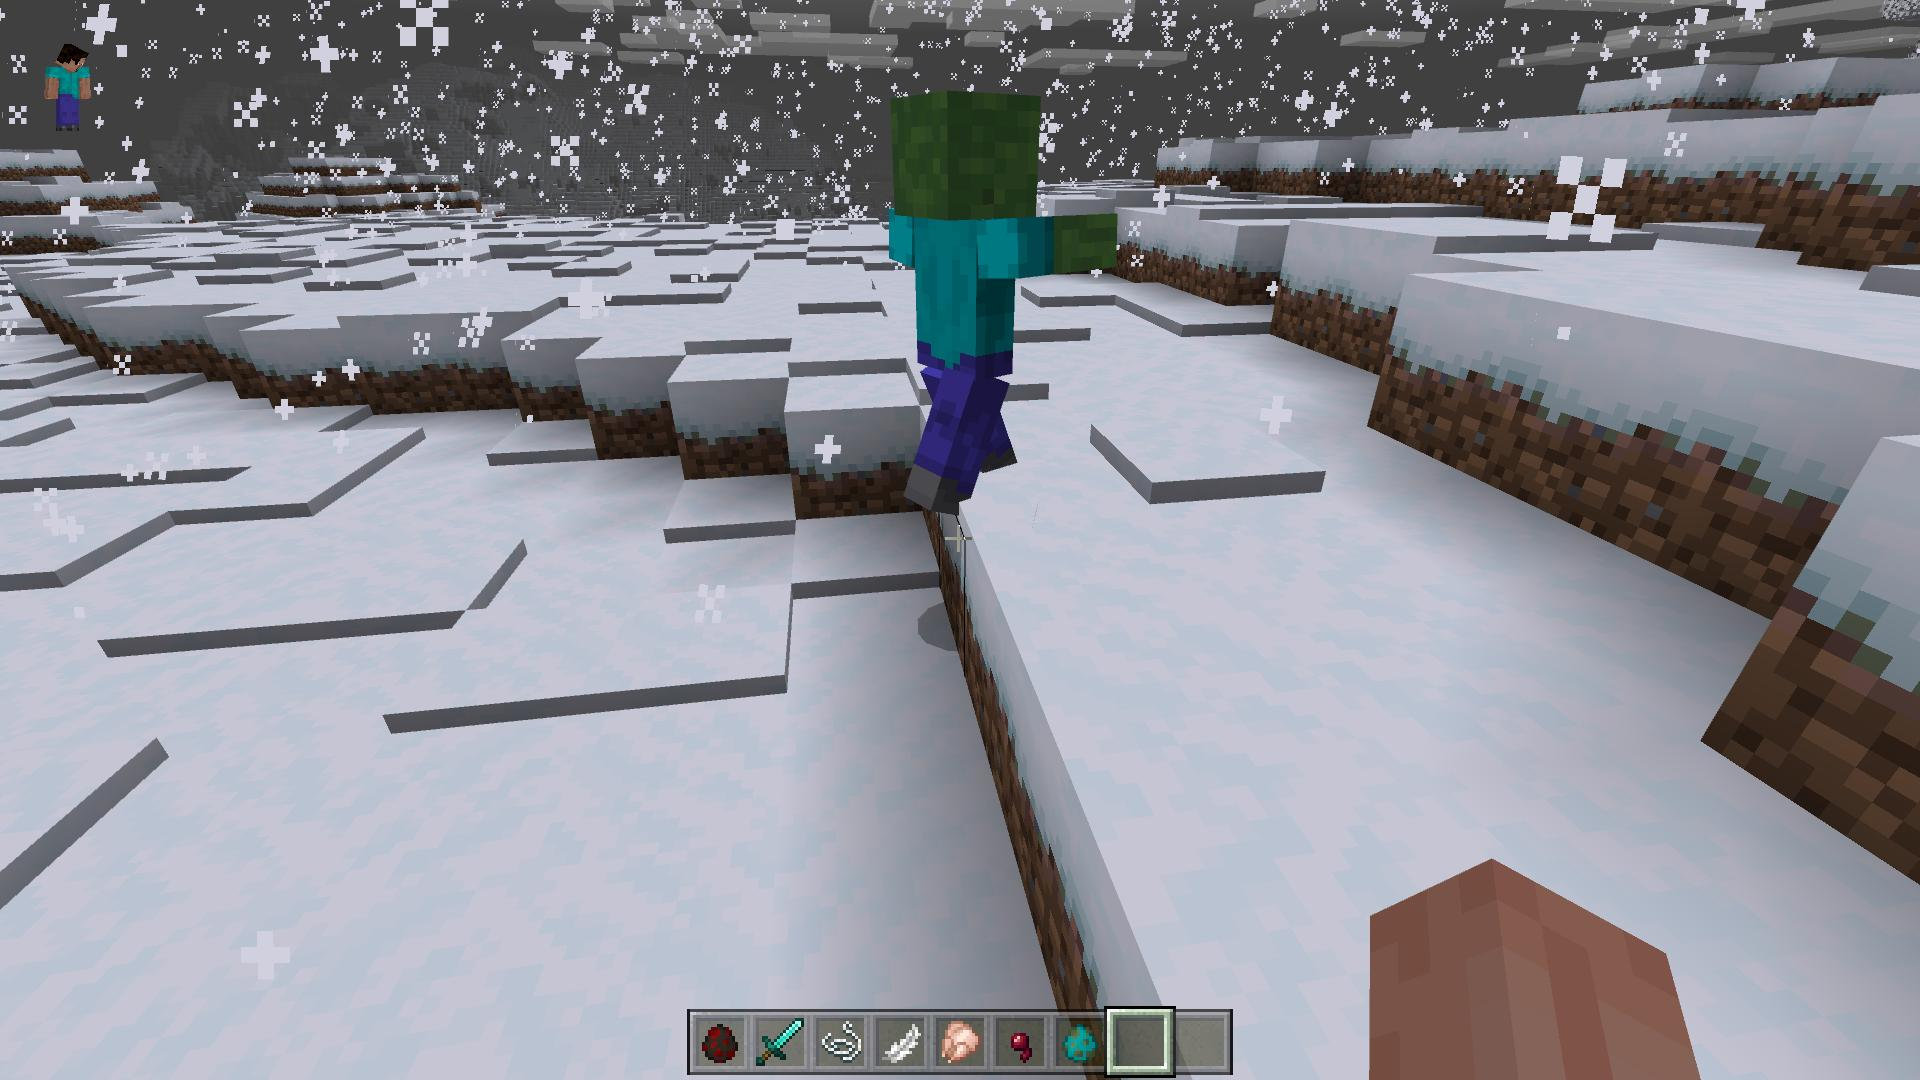zombie: (889, 92, 1124, 510)
